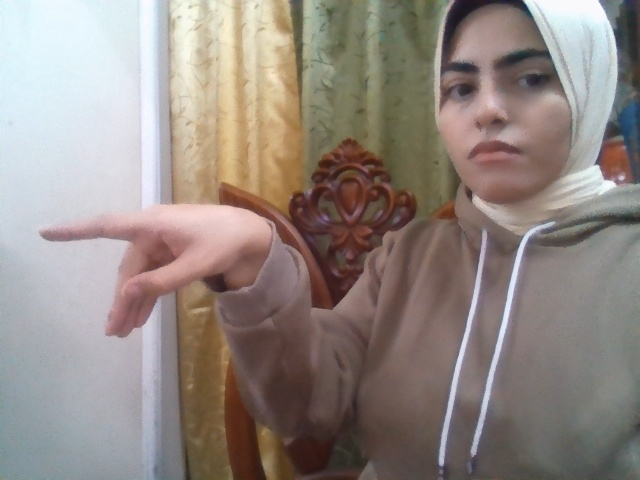P: (39, 202, 272, 338)
